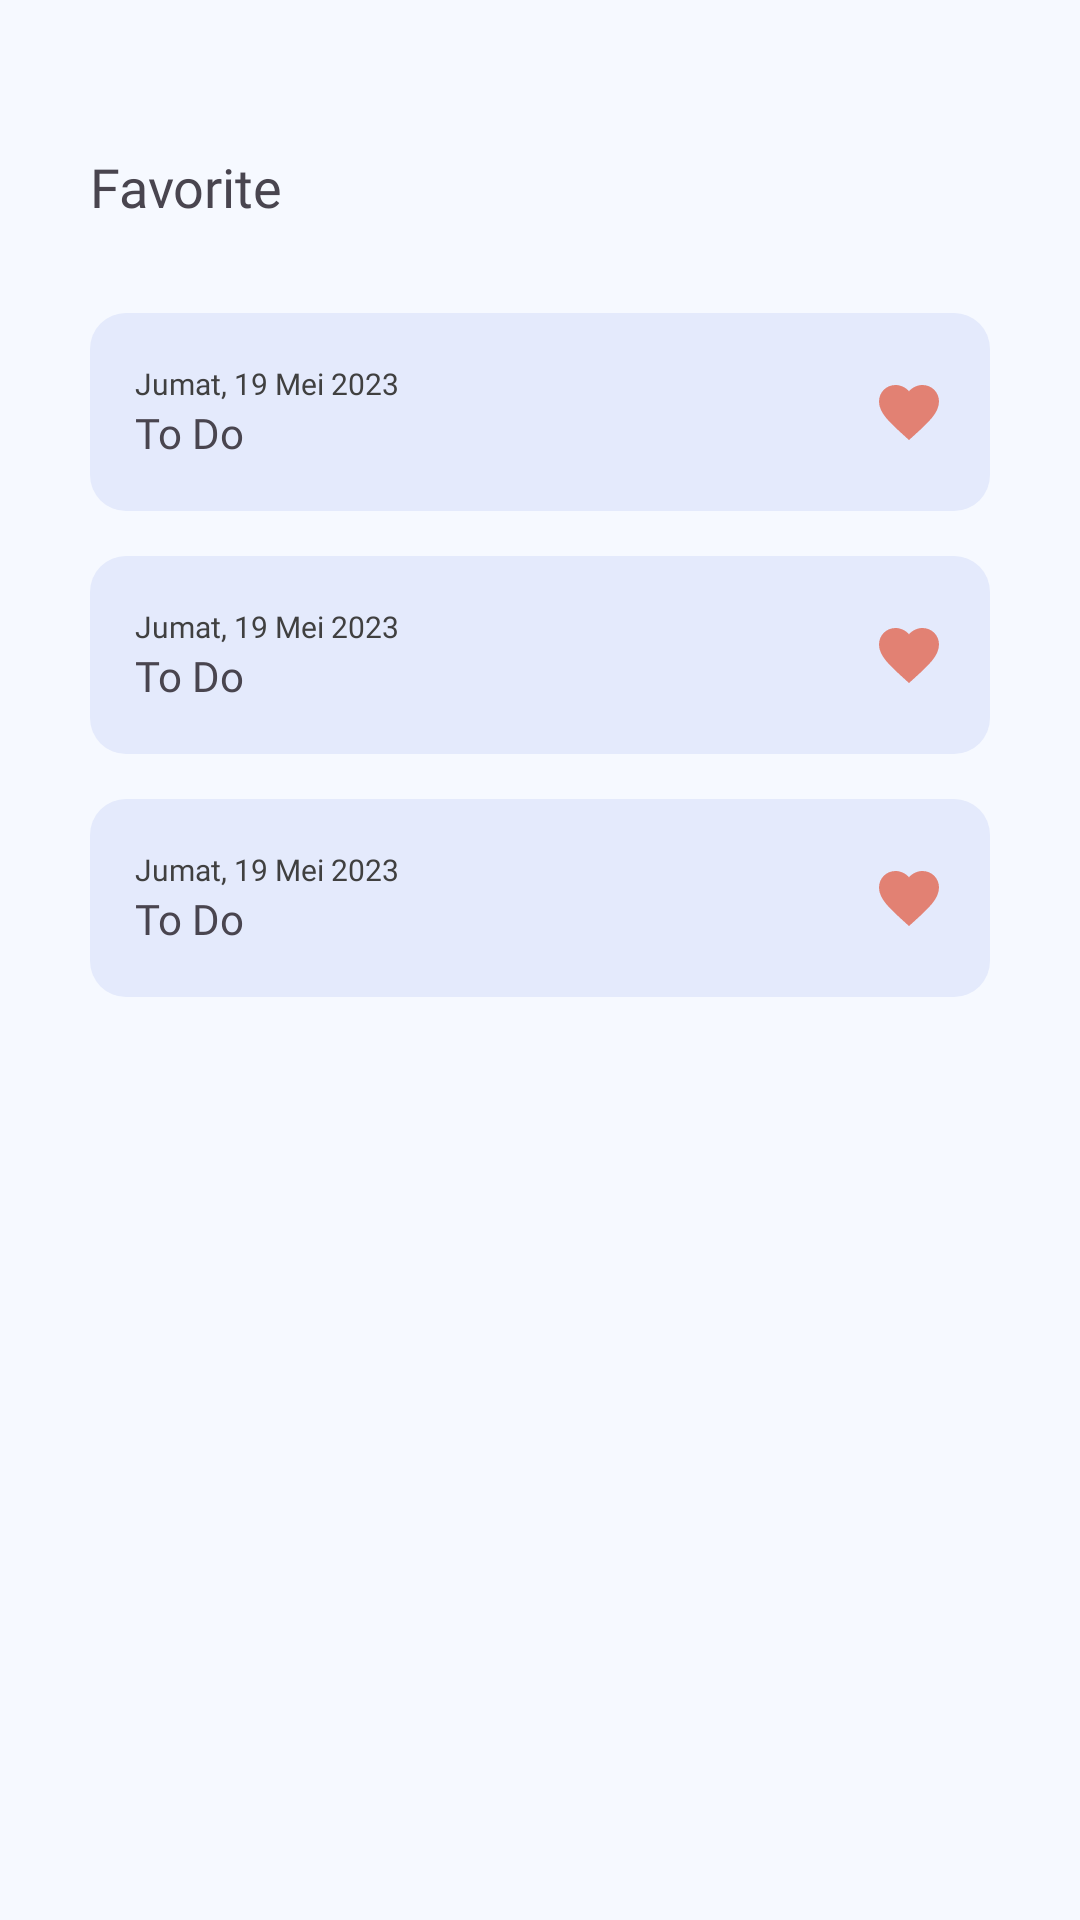

Icons on this 1080×1920 Android screen, each with the point to tap as (x=x, y=y):
true love: (x=909, y=412), (x=909, y=655), (x=909, y=898)
